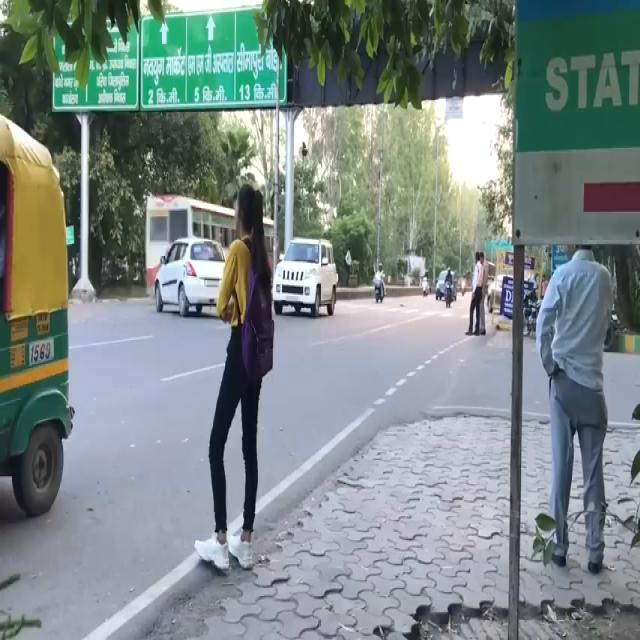MOTORCYCLE: (374, 270, 387, 310), (446, 277, 453, 304)
SUV: (275, 234, 340, 324)
